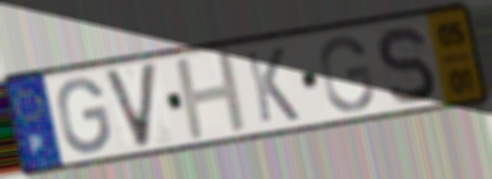G: (316, 33, 376, 114), (55, 75, 114, 157)
H: (171, 46, 252, 145)
K: (242, 44, 303, 126)
S: (373, 23, 439, 109)
V: (99, 59, 160, 152)
